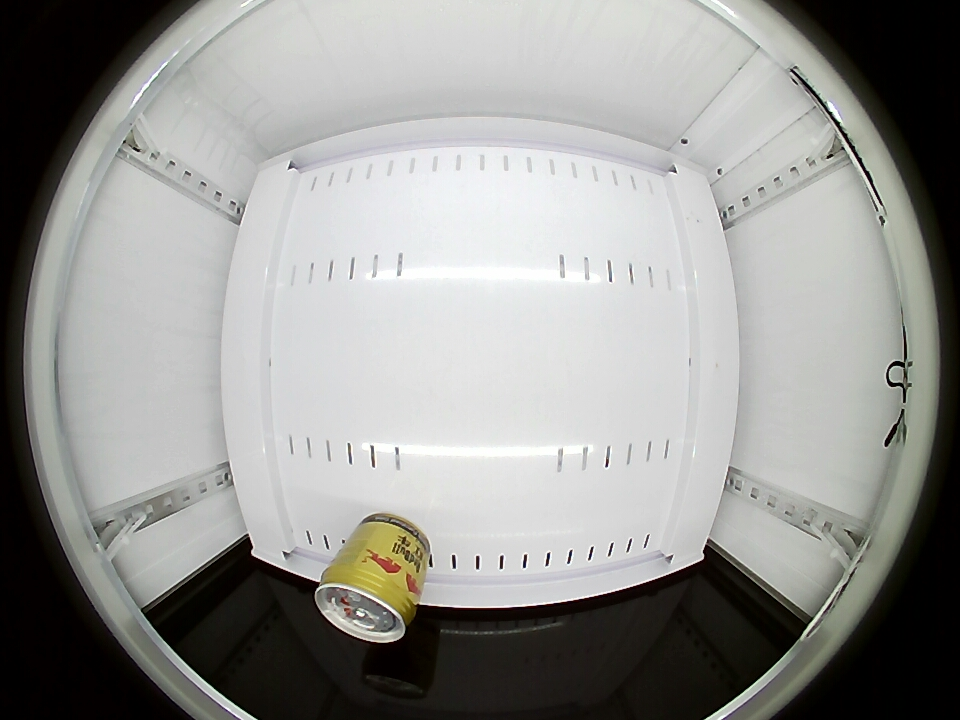hongniu2: (315, 560, 420, 643)
